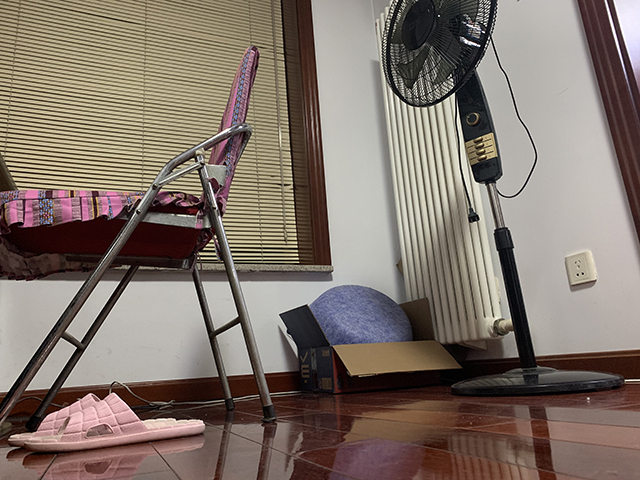curtain: (370, 9, 504, 350)
slippers: (6, 392, 207, 454)
stool: (1, 43, 279, 424)
wire: (1, 380, 303, 419)
